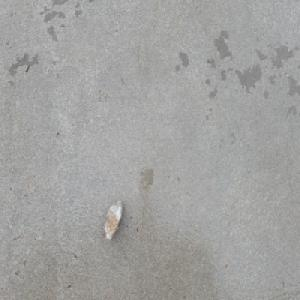Rock: (103, 197, 123, 242)
